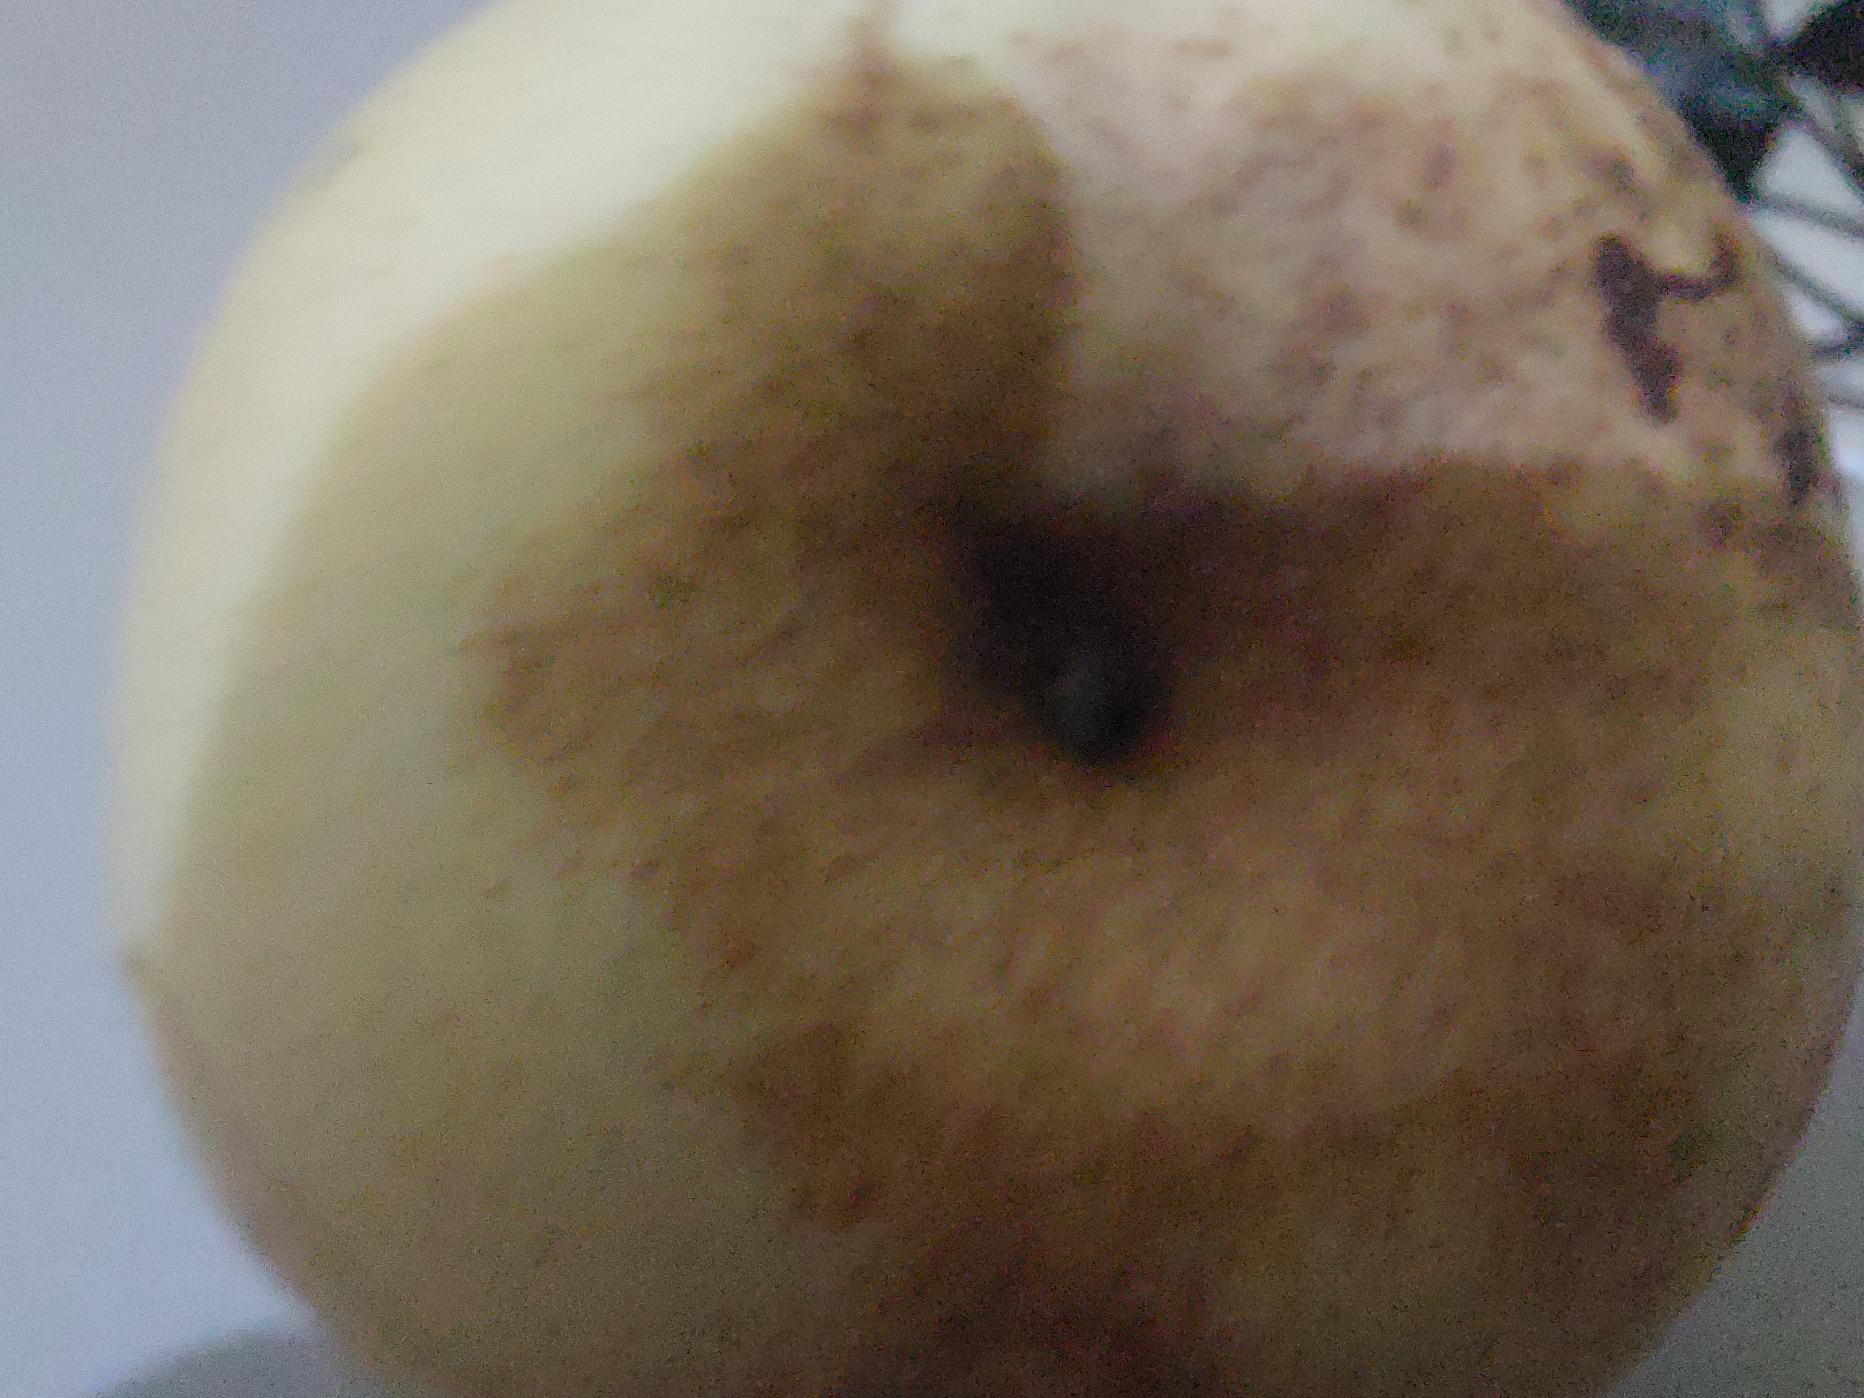Bad Pear: (120, 0, 1864, 1398)
